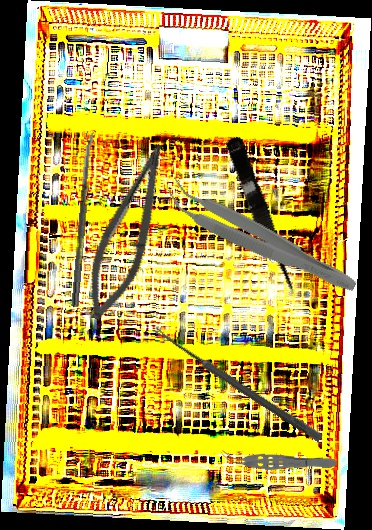Micro Scissor: (76, 135, 177, 328), (219, 133, 303, 303)
Surgical Spoon: (151, 325, 324, 443), (71, 130, 95, 308)
Tissue Forceps: (159, 174, 365, 301), (221, 449, 338, 473)
